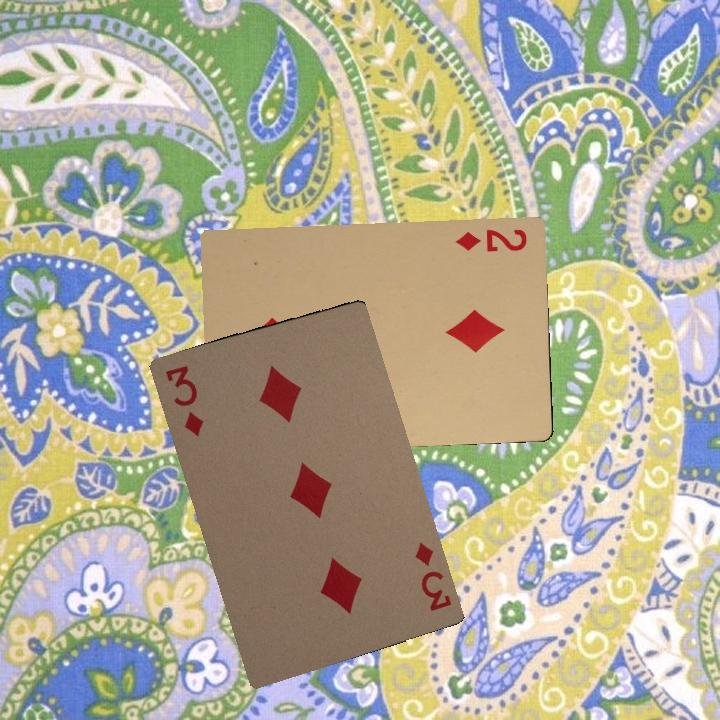2d: (452, 225, 530, 255)
3d: (161, 361, 208, 439), (410, 538, 454, 614)
